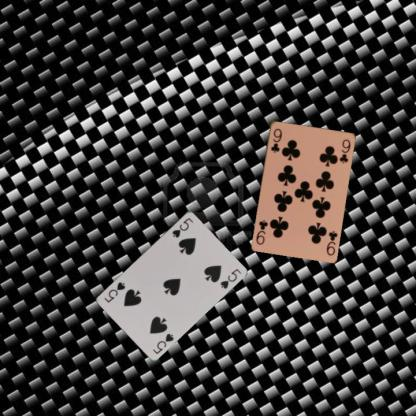5s: (150, 330, 175, 355), (169, 215, 195, 239)
9c: (268, 125, 283, 154), (324, 228, 338, 257)
